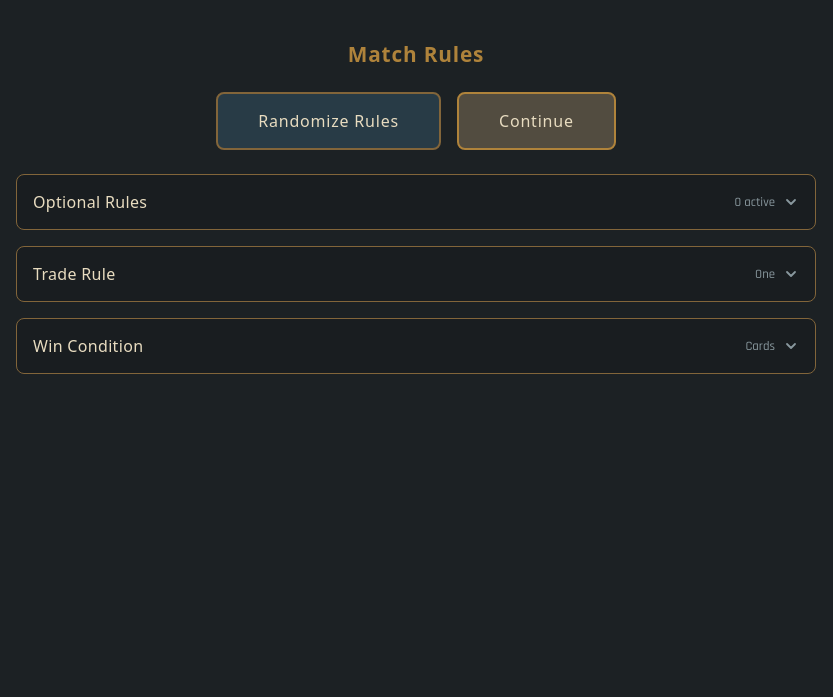
RuleSelectScreen accordion behaviour › opening Trade Rule closes Optional Rules - accordion, only one open at a time
The image size is (833, 697).
Click the button "Optional Rules 0 active" at (90, 202), box [17,175,815,229]
(page scrolled)
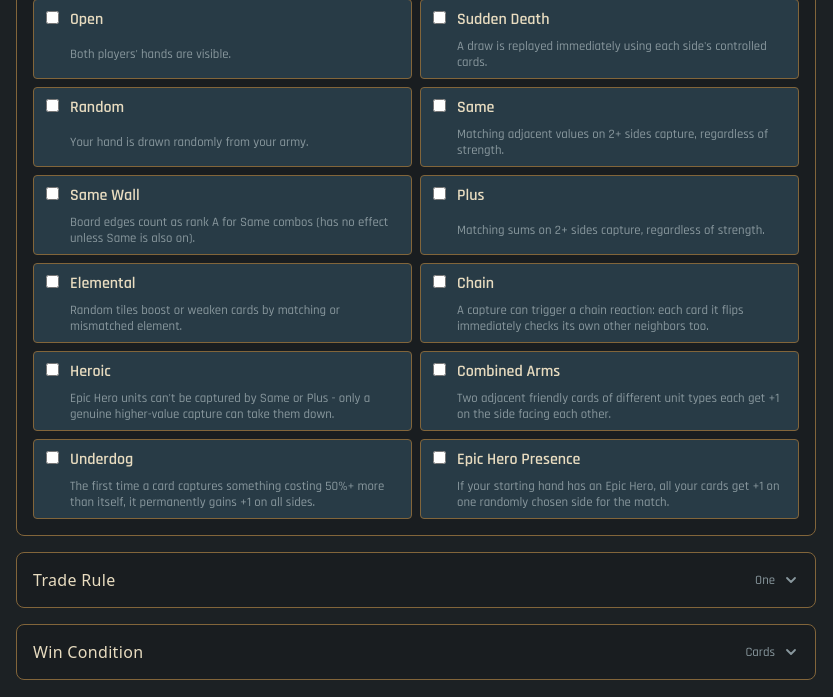
Click the button "Trade Rule One" at (74, 580), box [17,553,815,607]
(page scrolled)
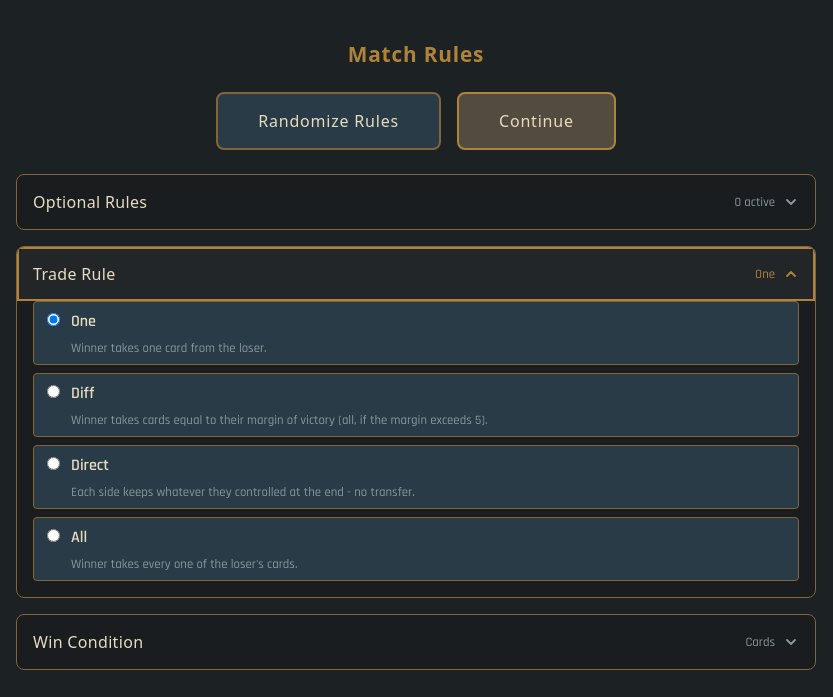
Now the button "Trade Rule One" is expanded, box [17,247,815,301]
Now the button "Optional Rules 0 active" is collapsed, box [17,175,815,229]
